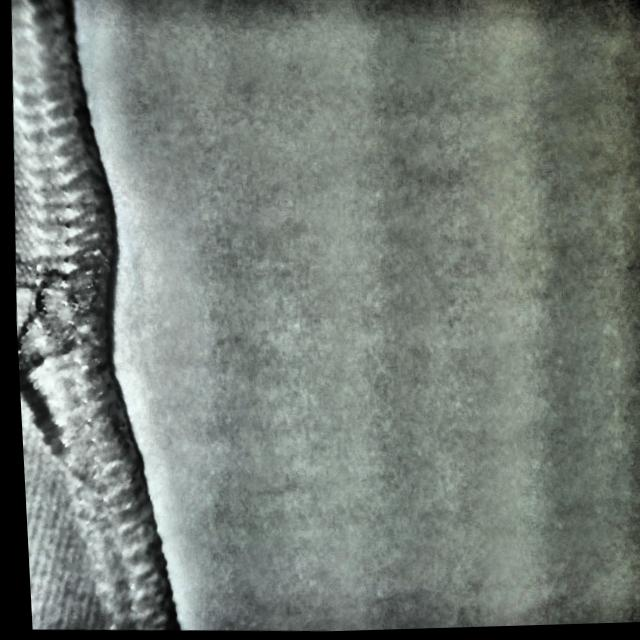seam: (10, 248, 121, 442)
